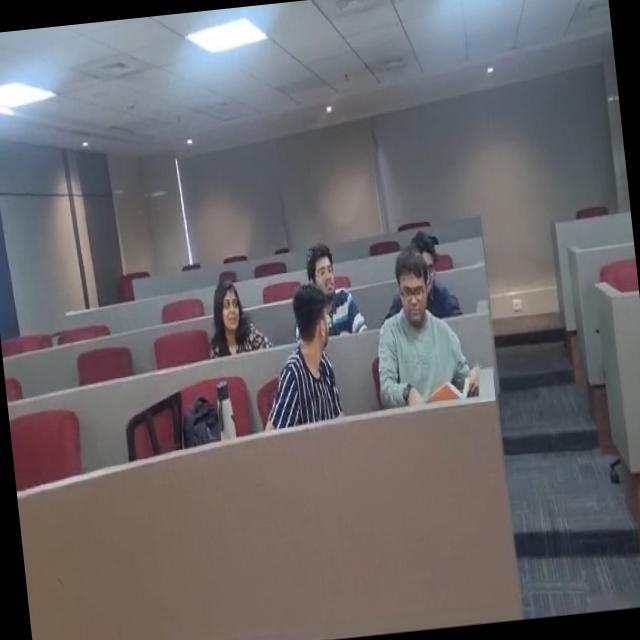cheating: (251, 286, 359, 446), (195, 268, 268, 366)
non-cheating: (365, 250, 465, 410), (286, 231, 371, 340), (389, 218, 468, 327)
